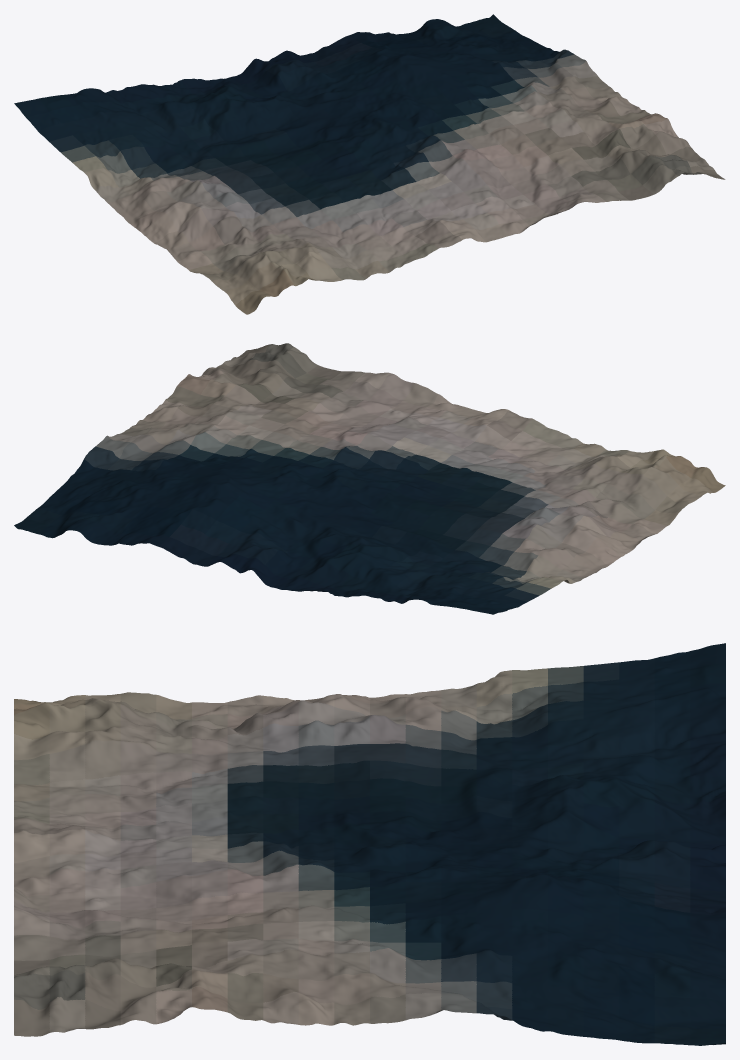
File: villarica.gltf
3 renders of one model, top to bottom at view 1: azimuth 30°, elevation 25°; view 2: azimuth 150°, elevation 25°; view 3: azimuth 270°, elevation 25°, orthographic. The views are drawn at different scales.
Visible parts, largest first — view 1: TerrainNode; view 2: TerrainNode; view 3: TerrainNode.
Boxes of the visible parts, x1,y1,x2,y2 form: TerrainNode: (14,14,725,314); TerrainNode: (14,343,725,614); TerrainNode: (14,643,725,1045).
Bounding box in the file's own units: 21.61 × 2.12 × 18.17.
1 material, 1 textured.
